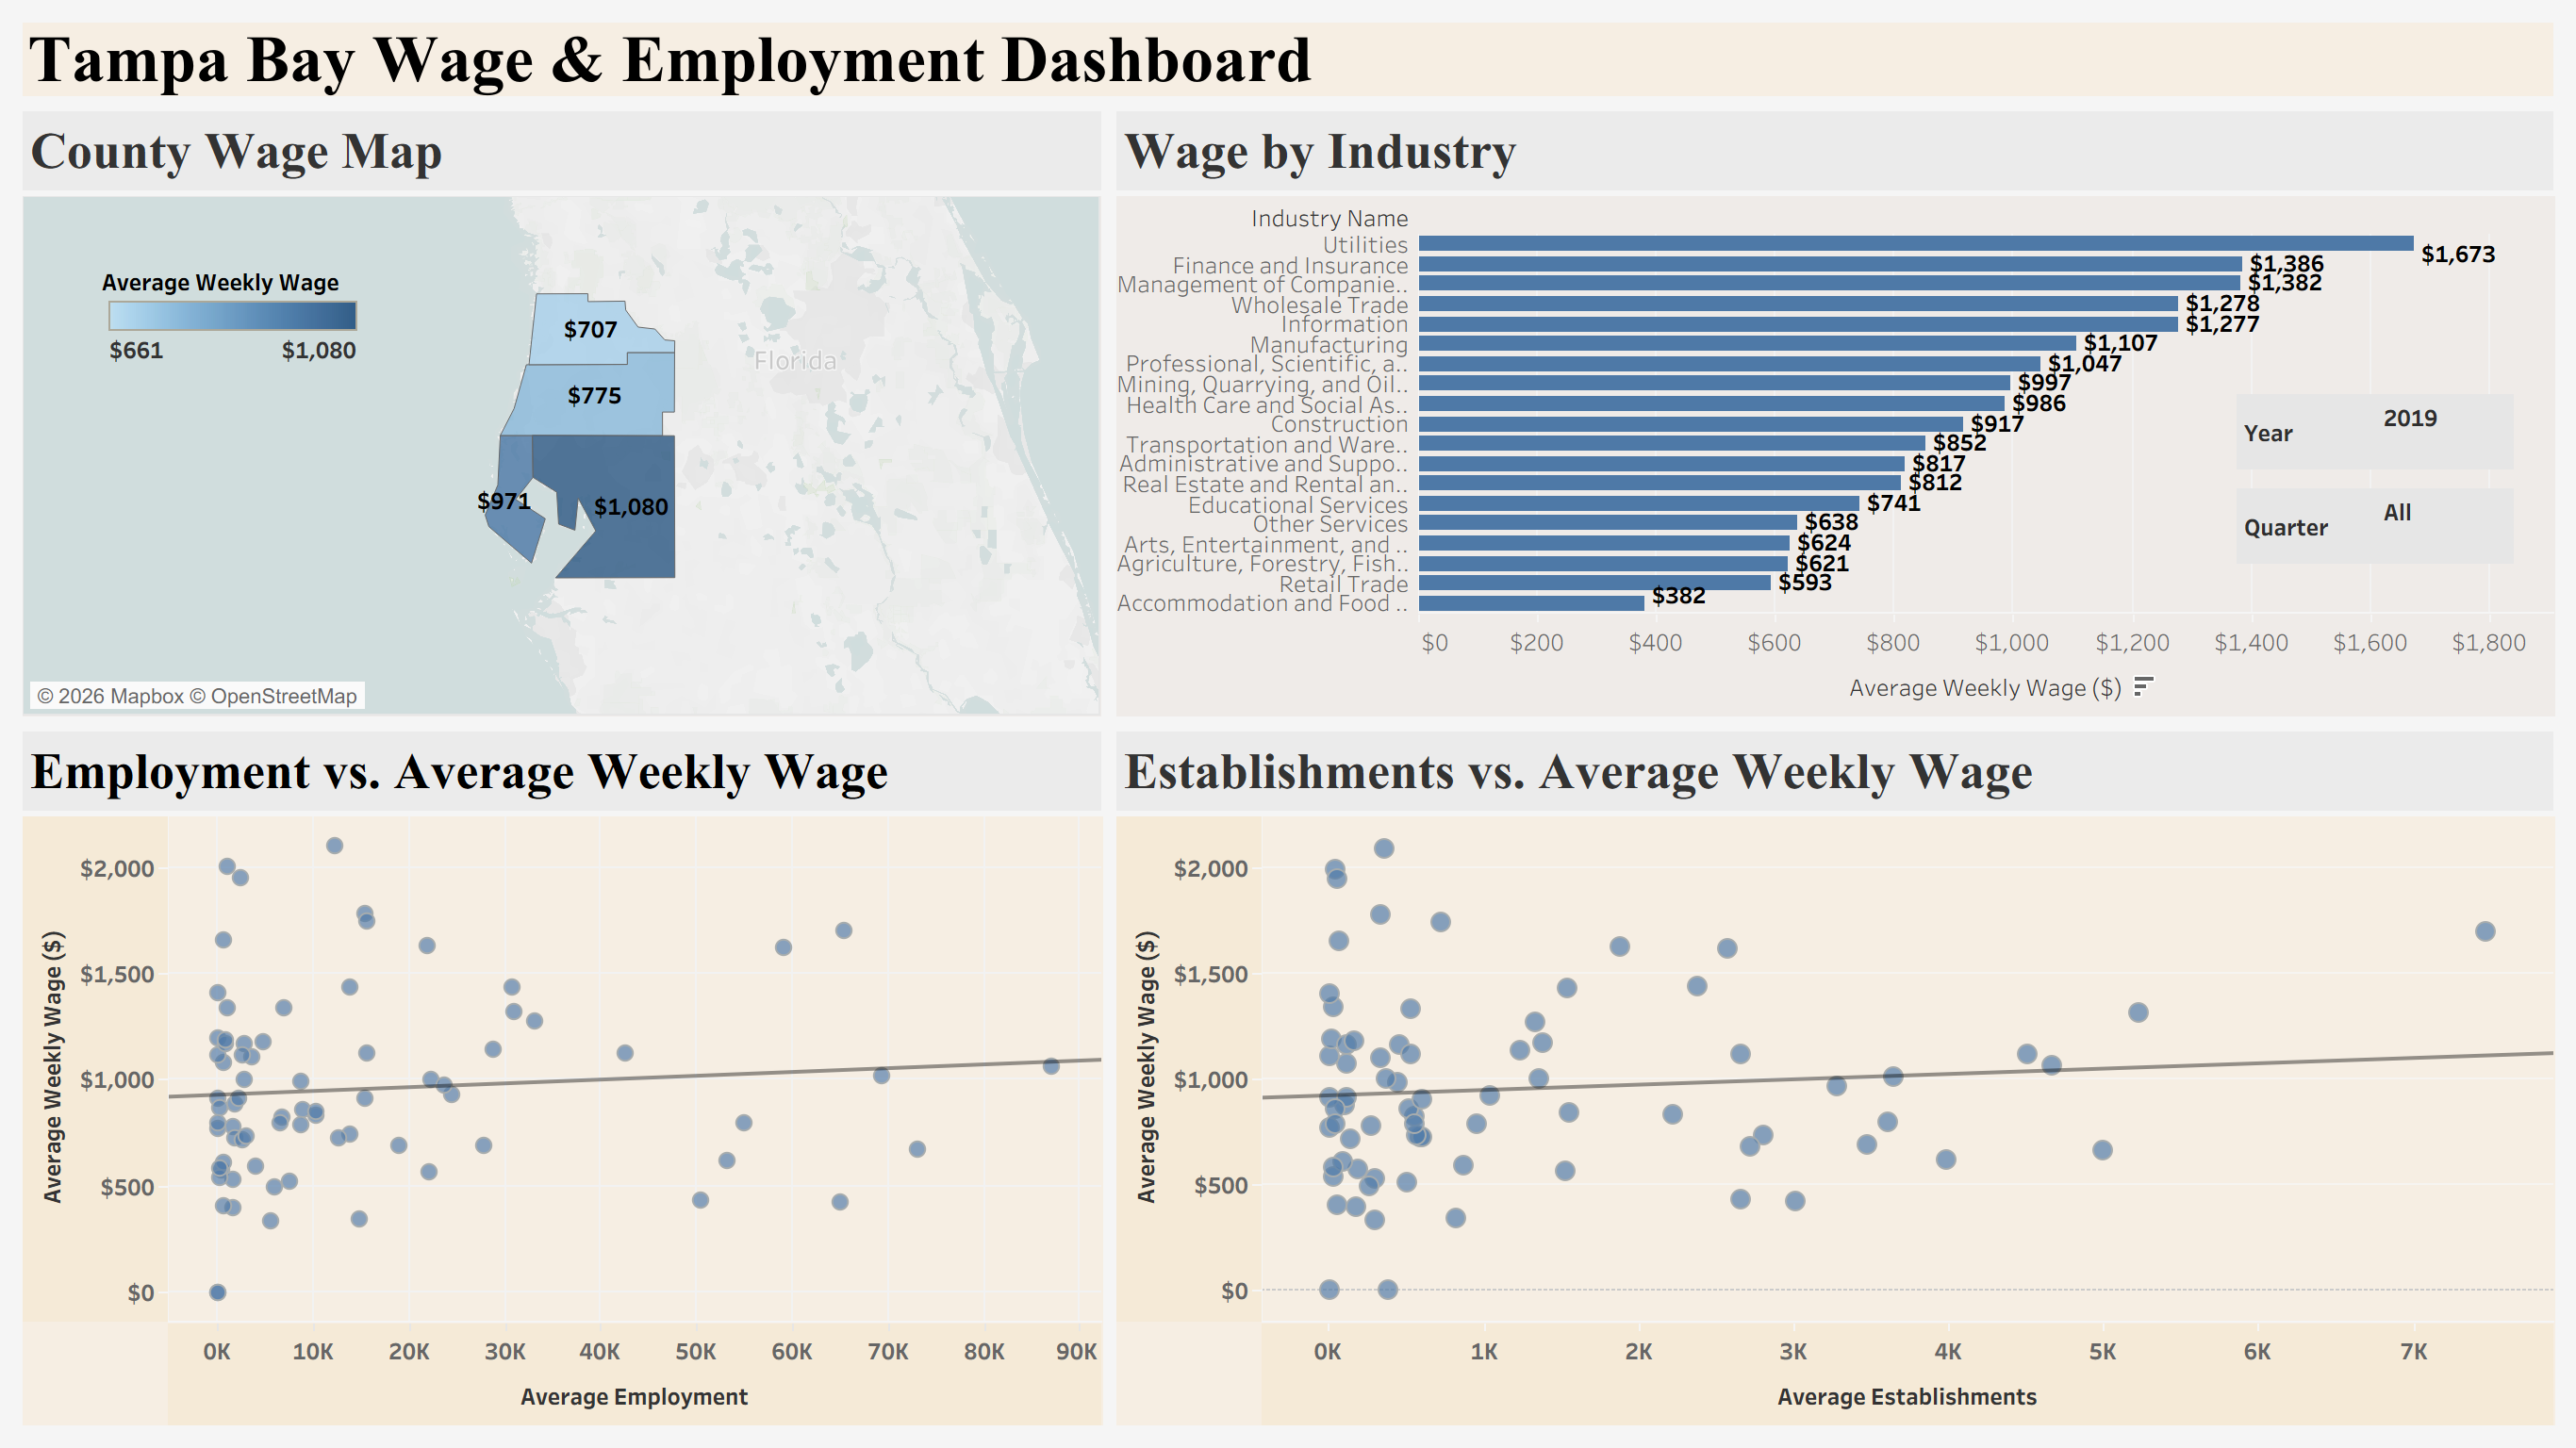

The dashboard page shown, as its layout file describes it:
{"tool":"tableau","page":{"name":"Dashboard 1","canvas":[1366,768],"ordinal":0},"visuals":[{"type":"title","box":[8,8,1350,47]},{"type":"worksheet","title":"County Wage Map","mark":"Automatic","box":[8,55,580,329]},{"type":"worksheet","title":"Wage by Industry","mark":"Automatic","rows":["Calculation_1473396904484865"],"cols":["avg_wkly_wage"],"box":[588,55,770,329]},{"type":"legend","title":"County Wage Map","param":"[federated.1milomp1czzupl1ejppx21d3zwrw].[avg:avg_wkly_wage:qk]","box":[54,137,140,76]},{"type":"filter","title":"Wage by Industry","param":"[federated.1milomp1czzupl1ejppx21d3zwrw].[none:year:ok]","box":[1182,205,155,48]},{"type":"filter","title":"Wage by Industry","param":"[federated.1milomp1czzupl1ejppx21d3zwrw].[none:qtr:ok]","box":[1182,255,155,48]},{"type":"worksheet","title":"Employment vs. Average Weekly Wage.","mark":"Circle","rows":["avg_wkly_wage"],"cols":["Calculation_1473396893900800"],"box":[8,384,580,376]},{"type":"worksheet","title":"Establishments vs. Average Weekly Wage","mark":"Circle","rows":["avg_wkly_wage"],"cols":["qtrly_estabs"],"box":[588,384,770,376]}]}

Visuals, with their boxes in screenshot pixels (x1, y1, x2, y2), scaled from the page's 1366x768 canvas onto the 2576x1448 screenshot:
title: box=[15, 15, 2561, 104]
"County Wage Map" worksheet: box=[15, 104, 1109, 724]
"Wage by Industry" worksheet: box=[1109, 104, 2561, 724]
"County Wage Map" legend: box=[102, 258, 366, 402]
"Wage by Industry" filter: box=[2229, 387, 2521, 477]
"Wage by Industry" filter: box=[2229, 481, 2521, 571]
"Employment vs. Average Weekly Wage." worksheet (Circle marks): box=[15, 724, 1109, 1433]
"Establishments vs. Average Weekly Wage" worksheet (Circle marks): box=[1109, 724, 2561, 1433]
